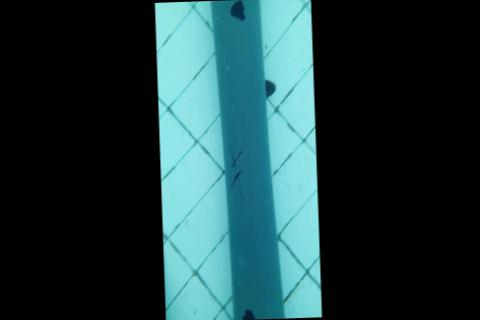kebocoran: (229, 0, 247, 22), (239, 307, 259, 320)
keretakan: (227, 145, 246, 204)
